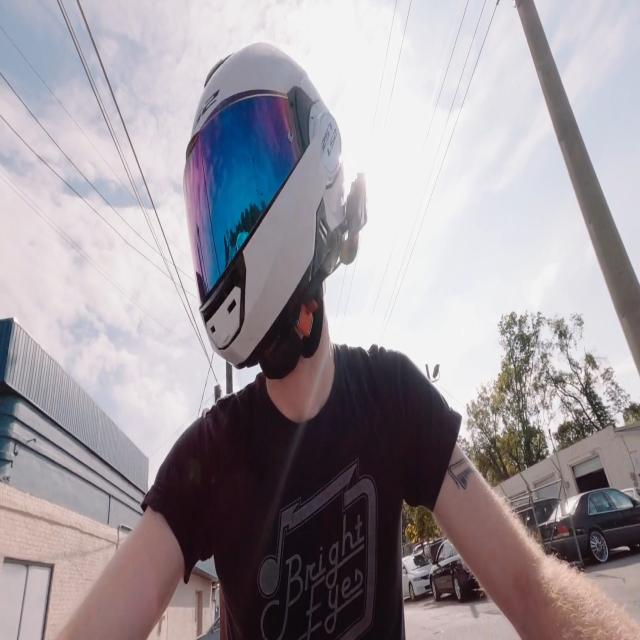Helmet_Wearer: (172, 23, 362, 415)
Person: (46, 33, 614, 640)
